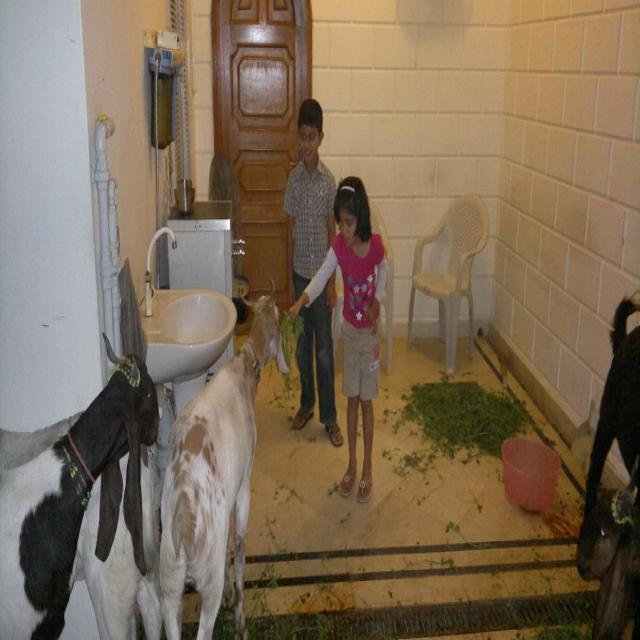Goat: (0, 329, 161, 638), (159, 277, 290, 637)
